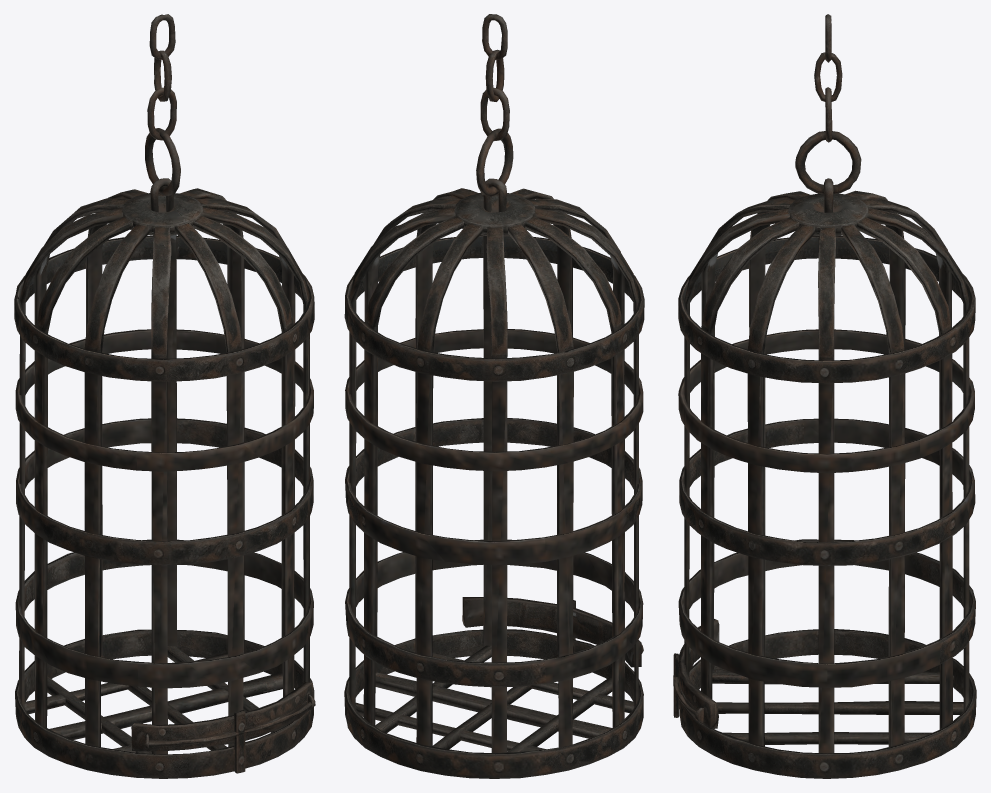
The picture shows the model from 3 angles, left to right: view 1: azimuth 30°, elevation 25°; view 2: azimuth 150°, elevation 25°; view 3: azimuth 270°, elevation 25°; orthographic projection.
Size of the model in its own units: 0.3896 by 1 by 0.3942.
1 material, 1 textured.
